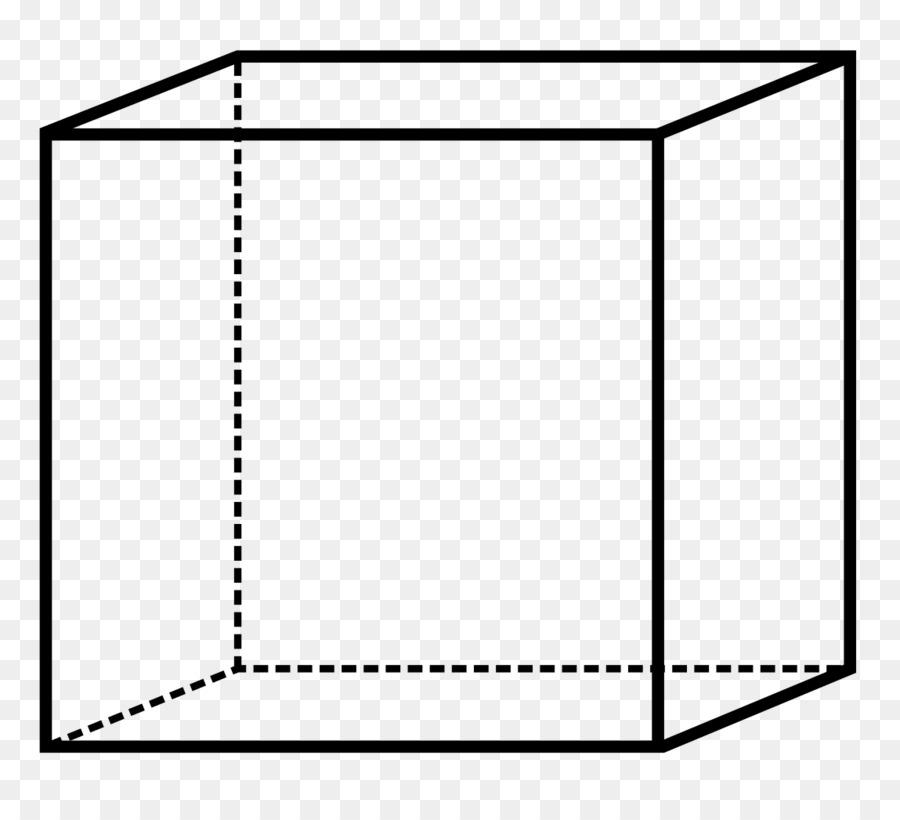cubos: (26, 30, 880, 784)
